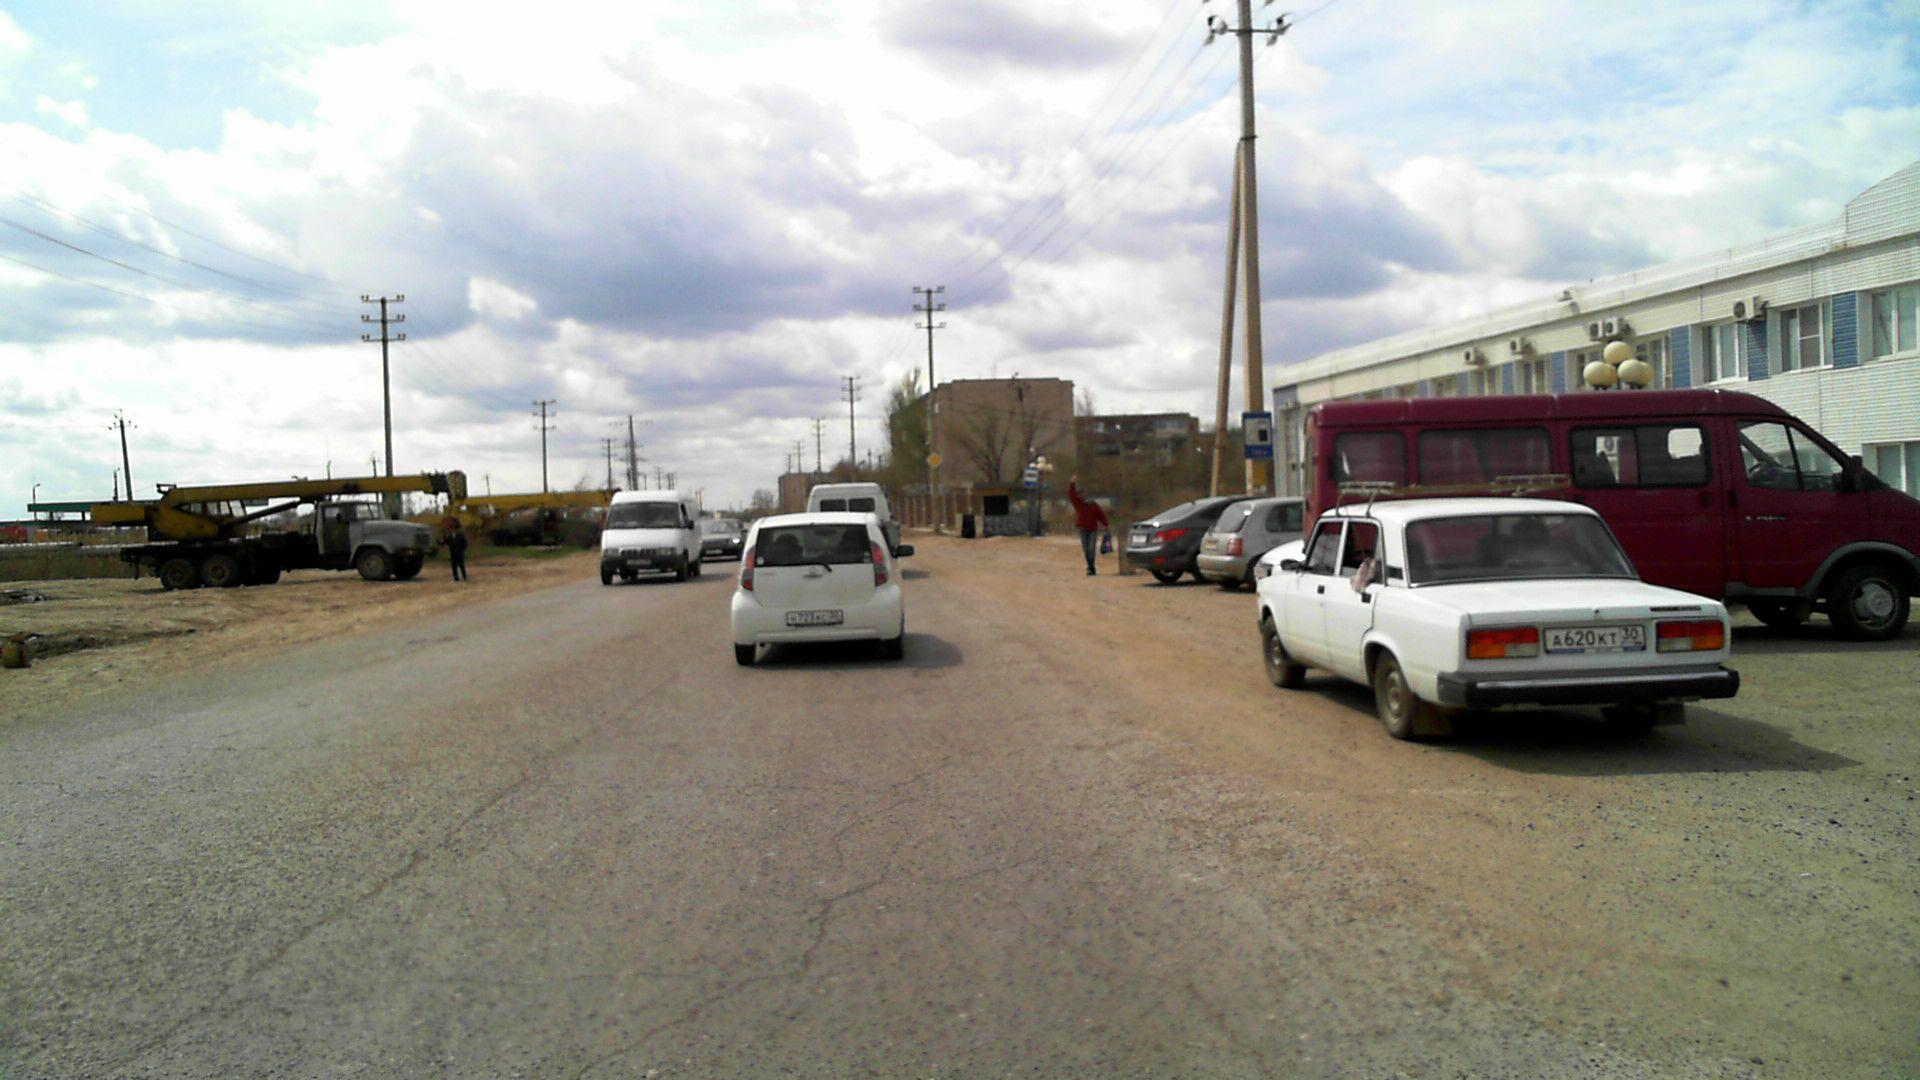2_1: (926, 452, 942, 467)
5_16: (1022, 467, 1039, 488)
7_3: (1242, 411, 1275, 463)
